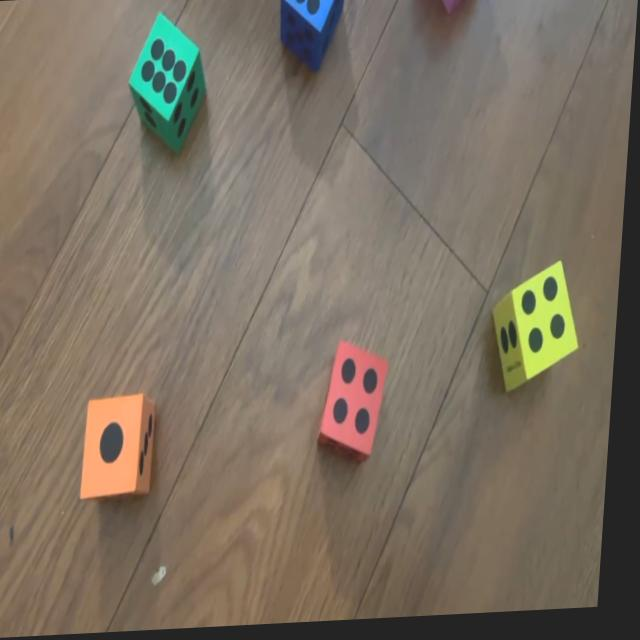cube: (126, 9, 211, 155), (322, 341, 397, 467), (276, 0, 343, 74)
